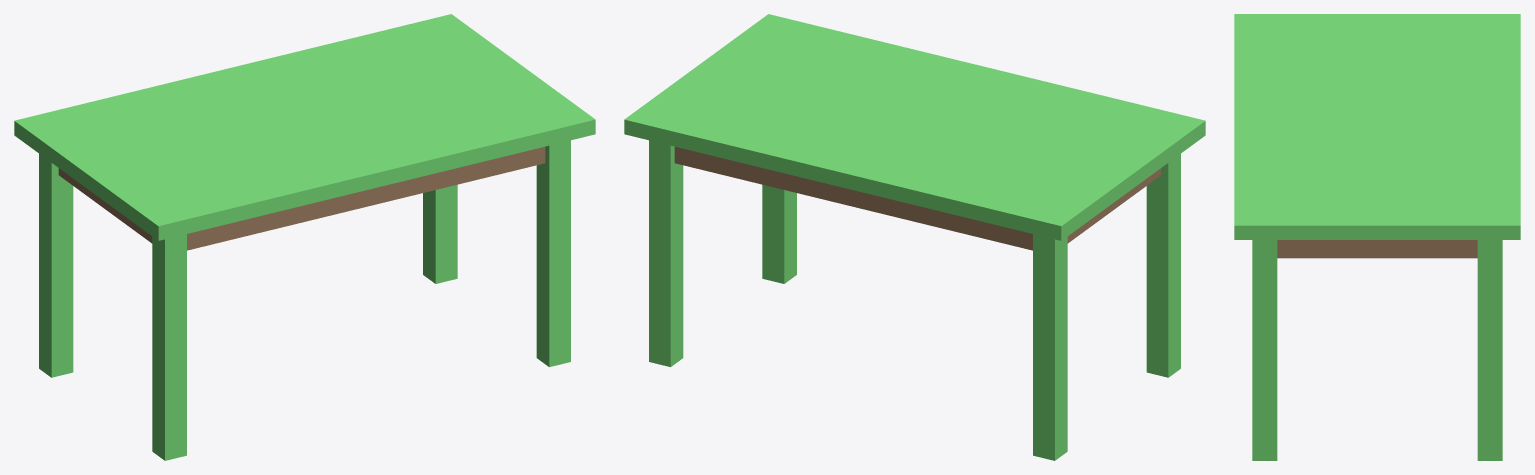
Rendered from table_001.glb.
The picture shows the model from 3 angles, left to right: view 1: azimuth 30°, elevation 25°; view 2: azimuth 150°, elevation 25°; view 3: azimuth 270°, elevation 25°; orthographic projection.
Parts seen in each view (by area): view 1: COL_Table_Top, COL_Leg_SW, COL_Leg_SE, COL_Leg_NW, Apron_South, COL_Leg_NE, Apron_West; view 2: COL_Table_Top, COL_Leg_NW, COL_Leg_NE, COL_Leg_SW, Apron_North, COL_Leg_SE, Apron_West; view 3: COL_Table_Top, COL_Leg_NE, COL_Leg_SE, Apron_East.
Part boxes in pixels (box(x1,y1,x2,y2)): COL_Table_Top: box(14, 14, 595, 240); COL_Leg_SW: box(152, 234, 186, 460); COL_Leg_SE: box(536, 140, 570, 367); COL_Leg_NW: box(39, 154, 73, 377); Apron_South: box(187, 146, 545, 250); COL_Leg_NE: box(423, 184, 457, 283); Apron_West: box(58, 168, 152, 243); COL_Table_Top: box(624, 14, 1205, 240); COL_Leg_NW: box(1033, 234, 1067, 460); COL_Leg_NE: box(649, 140, 683, 367); COL_Leg_SW: box(1146, 154, 1180, 377); Apron_North: box(674, 146, 1032, 250); COL_Leg_SE: box(762, 184, 796, 283); Apron_West: box(1067, 168, 1161, 243); COL_Table_Top: box(1234, 14, 1520, 239); COL_Leg_NE: box(1477, 240, 1502, 460); COL_Leg_SE: box(1252, 240, 1277, 460); Apron_East: box(1277, 240, 1477, 258).
Bounding box in the file's own units: 1.4 × 0.75 × 0.8.
